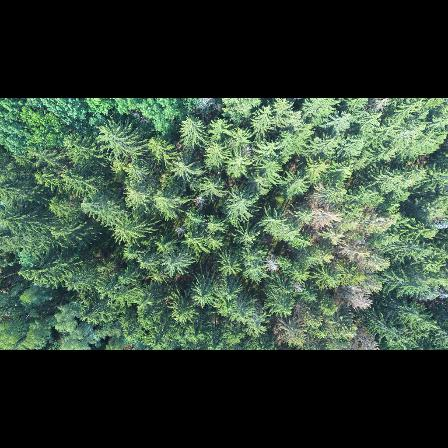Dead: (305, 194, 340, 233), (336, 286, 371, 312), (339, 242, 382, 263), (263, 254, 280, 276), (191, 193, 206, 211)
